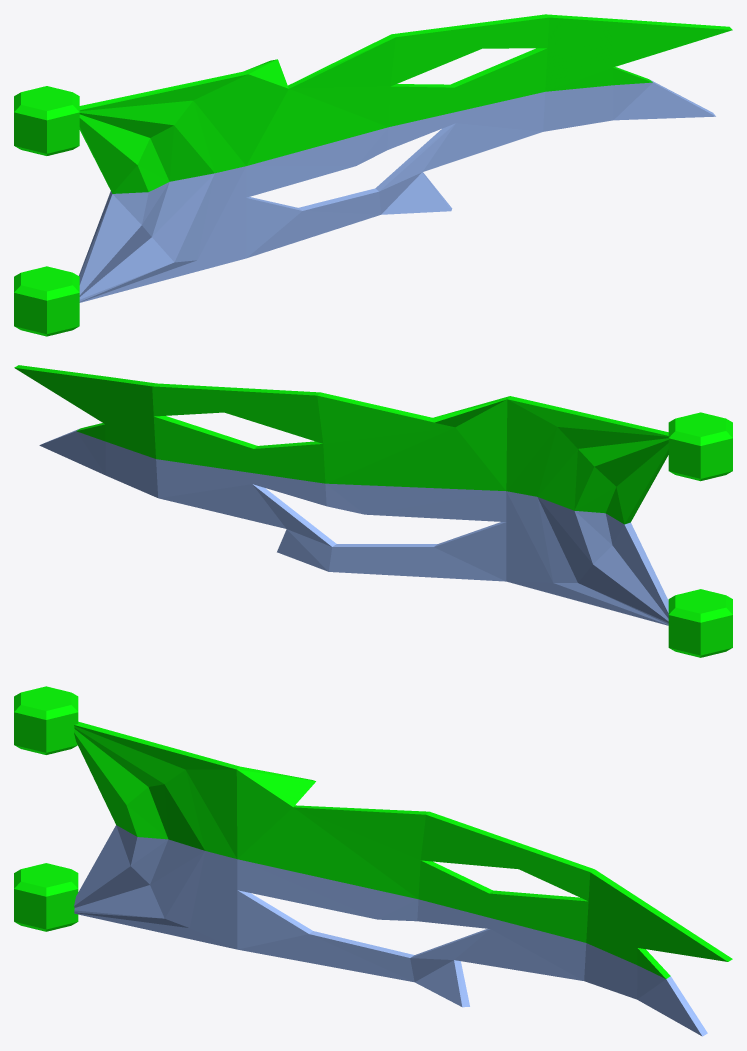
File: SM_Flag_Thin_B_Broken_Fantasy.fbx
The picture shows the model from 3 angles, top to bottom: view 1: azimuth 30°, elevation 25°; view 2: azimuth 150°, elevation 25°; view 3: azimuth 330°, elevation 25°; orthographic projection. The views are drawn at different scales.
Parts seen in each view (by area): view 1: flag-thin-b-broken-fantasy; view 2: flag-thin-b-broken-fantasy; view 3: flag-thin-b-broken-fantasy.
Part boxes in pixels (left/top/right/bottom): flag-thin-b-broken-fantasy: left=14, top=14, right=732, bottom=336; flag-thin-b-broken-fantasy: left=14, top=365, right=732, bottom=657; flag-thin-b-broken-fantasy: left=14, top=686, right=732, bottom=1036.
Bounding box in the file's own units: 0.9886 × 0.2938 × 0.1115.
